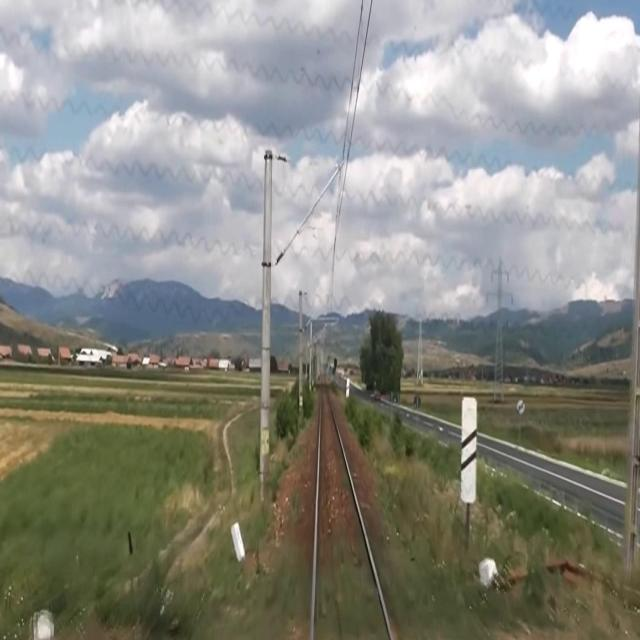rail-track: (315, 390, 388, 639)
